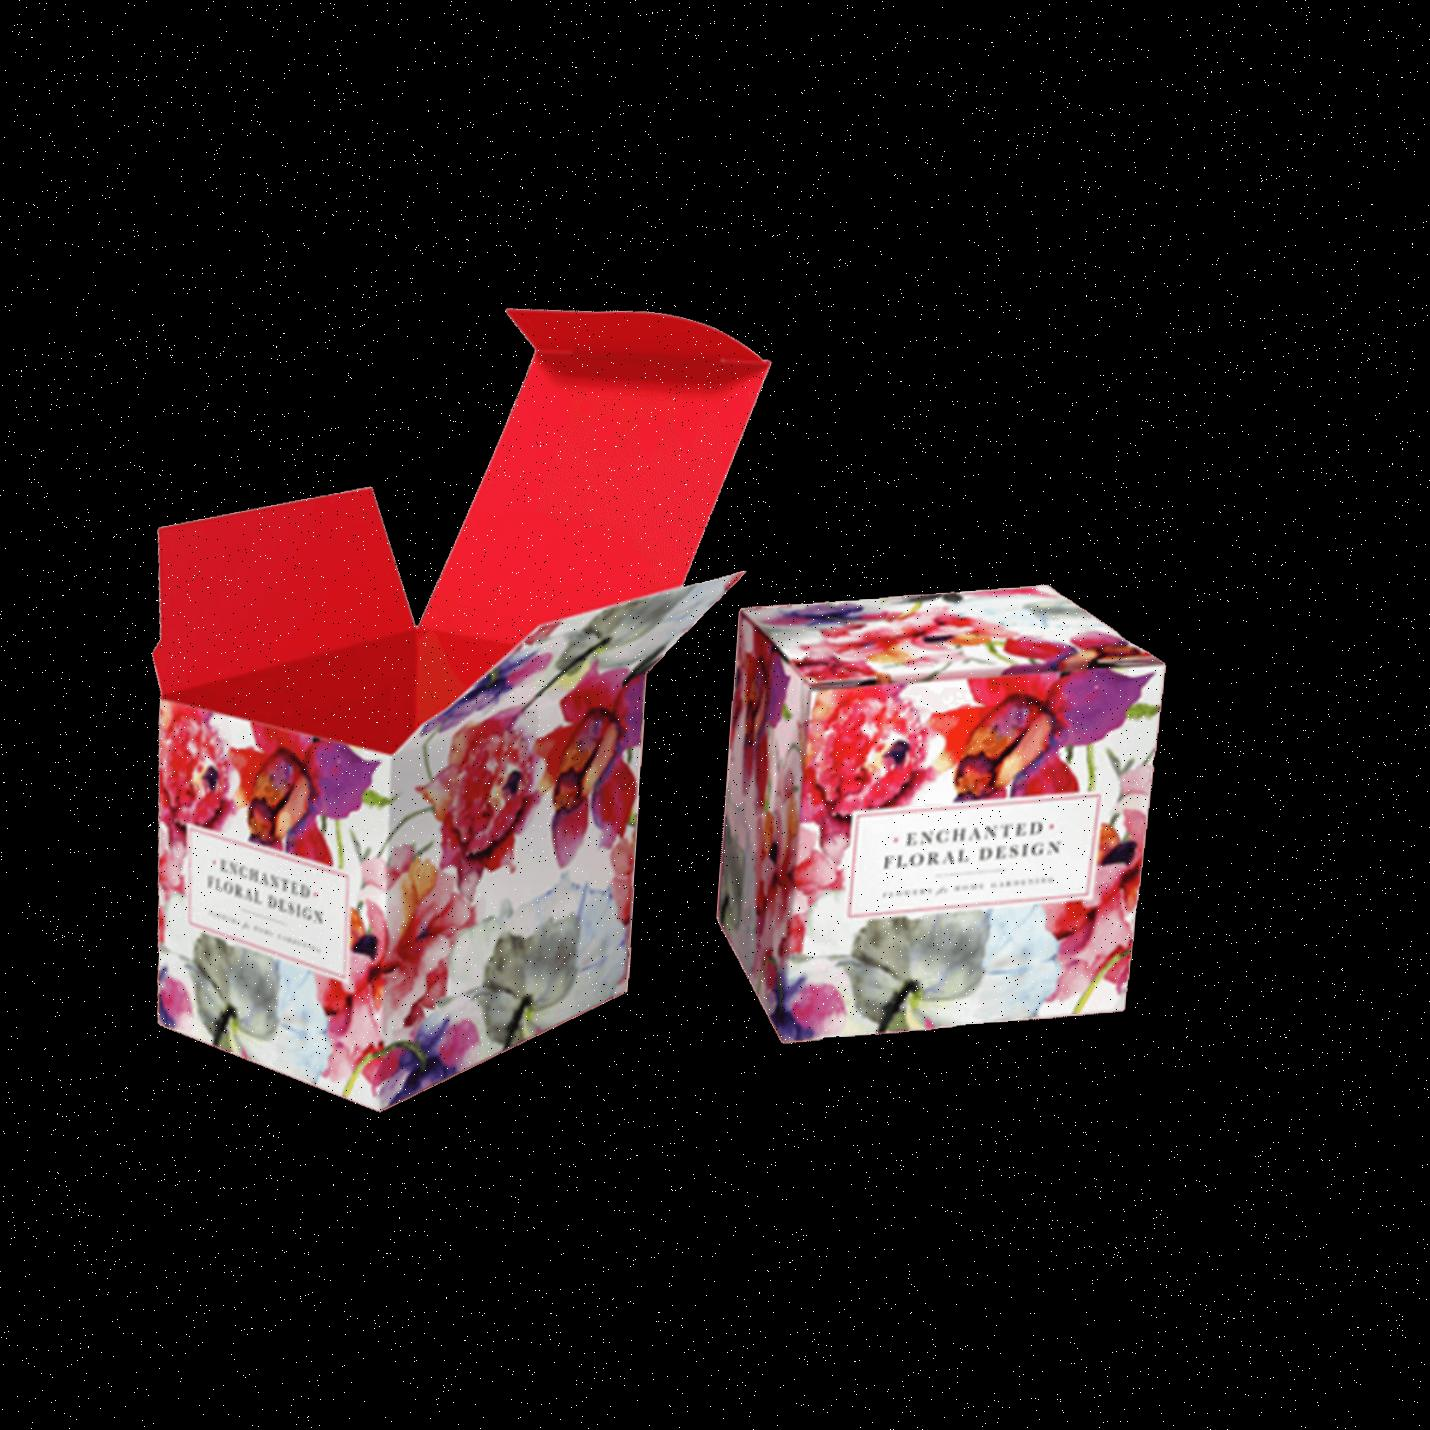cube: (728, 596, 1184, 1046)
